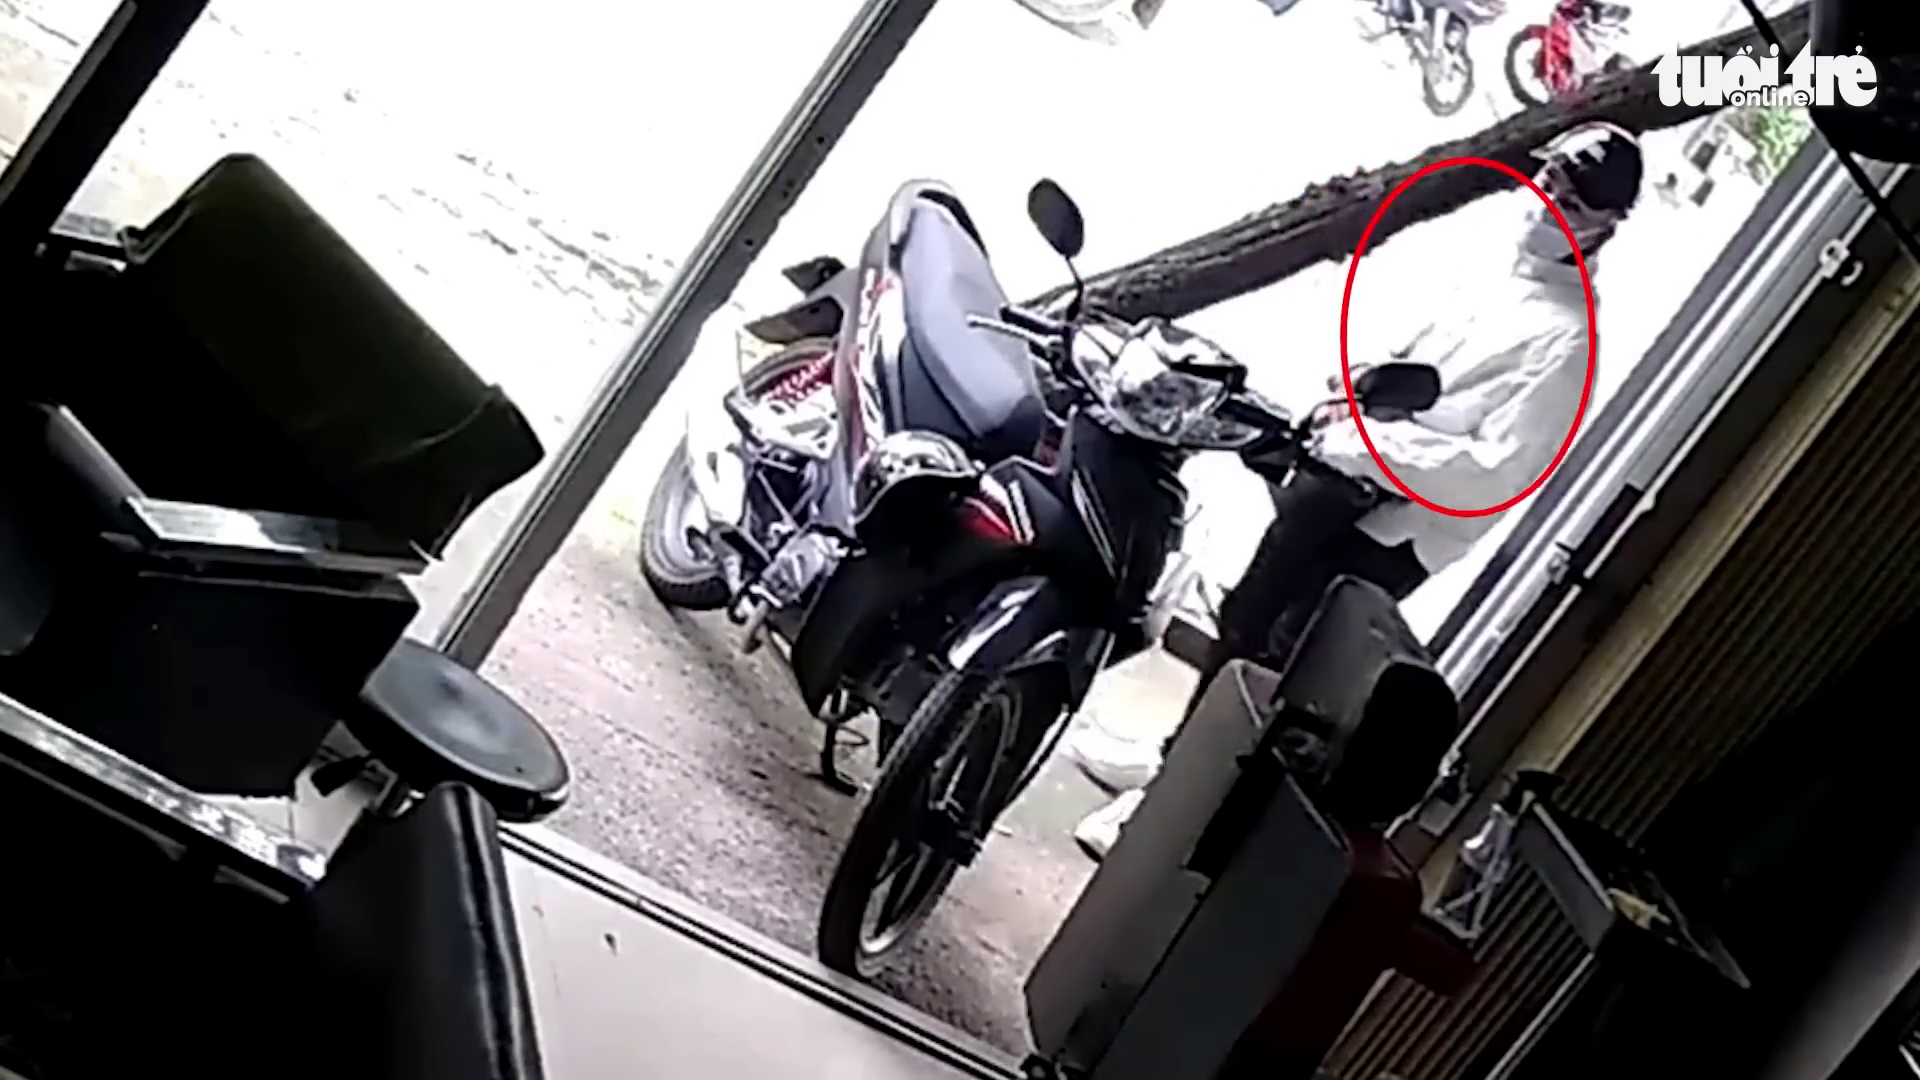Motorcycle: (787, 161, 1594, 978), (1, 141, 576, 1052), (638, 253, 862, 647), (1352, 0, 1507, 116), (1505, 1, 1635, 107)
